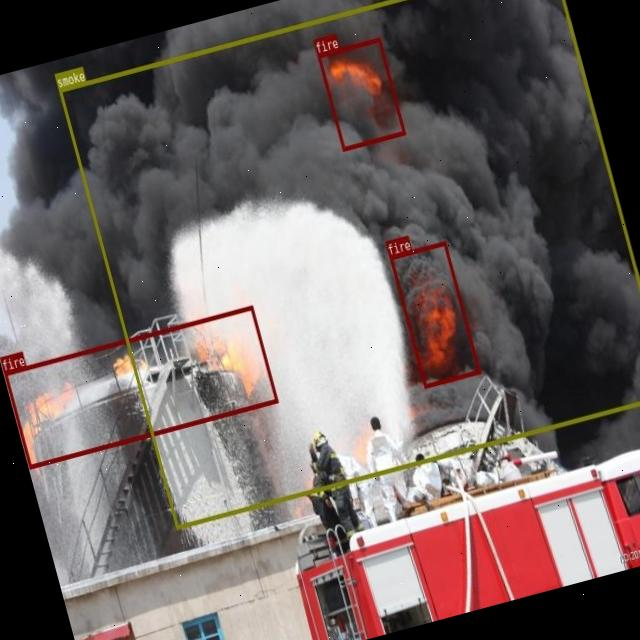fire: (2, 306, 278, 468), (388, 240, 479, 386), (316, 36, 404, 150)
smoke: (57, 0, 640, 528)
